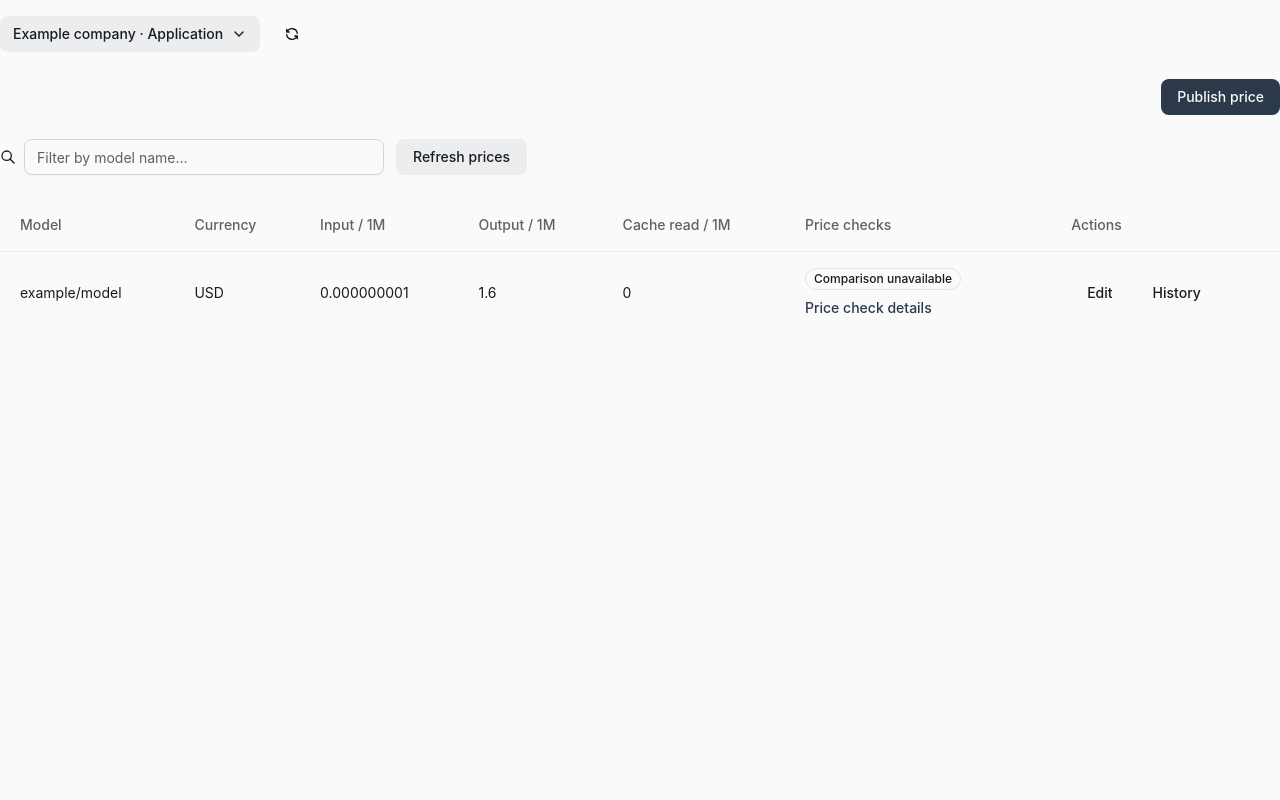
Scenario: platform customer price workflow › retains revision history when an older page fails and retries that boundary
Step 1. Click the button with aria-label "History for example/model" → point(1177, 293), box top-left (1137, 275), bottom-right (1217, 311)
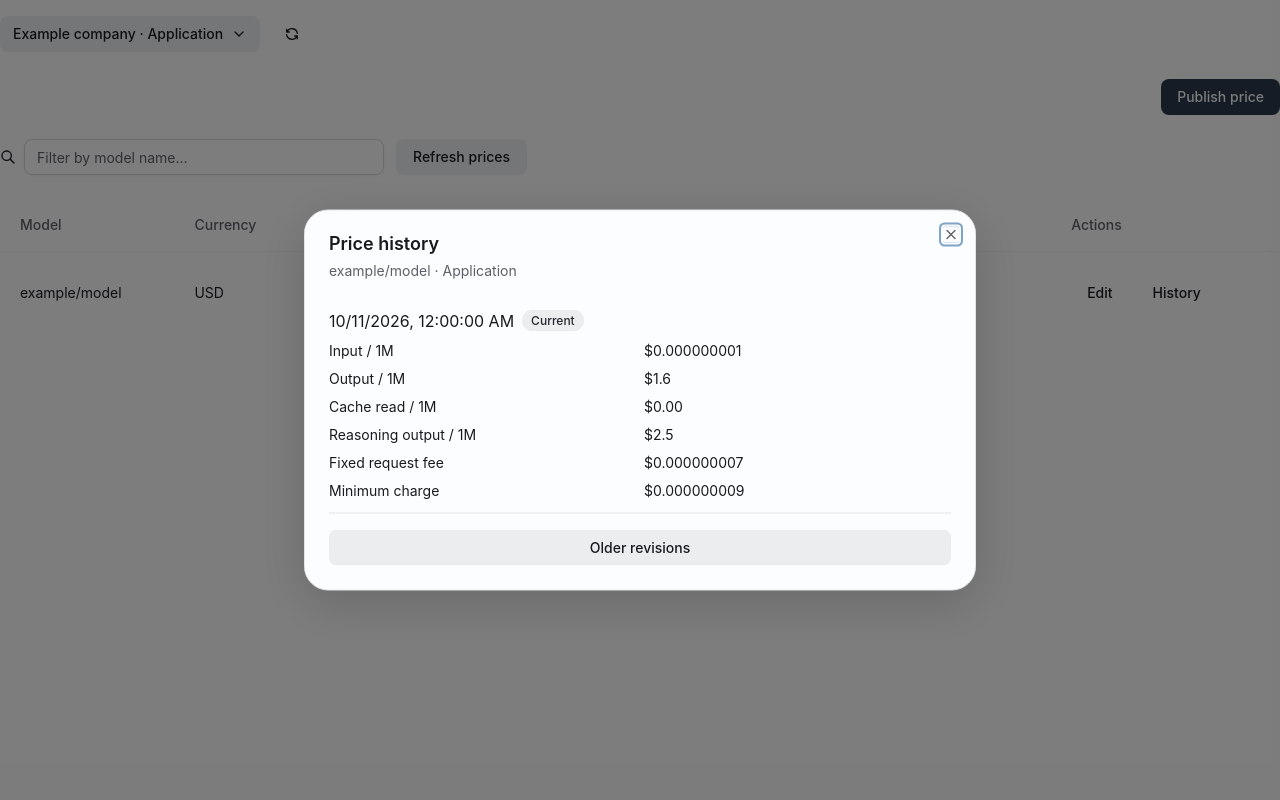
Step 2. Click the button "Older revisions" → point(640, 548), box top-left (329, 530), bottom-right (951, 566)
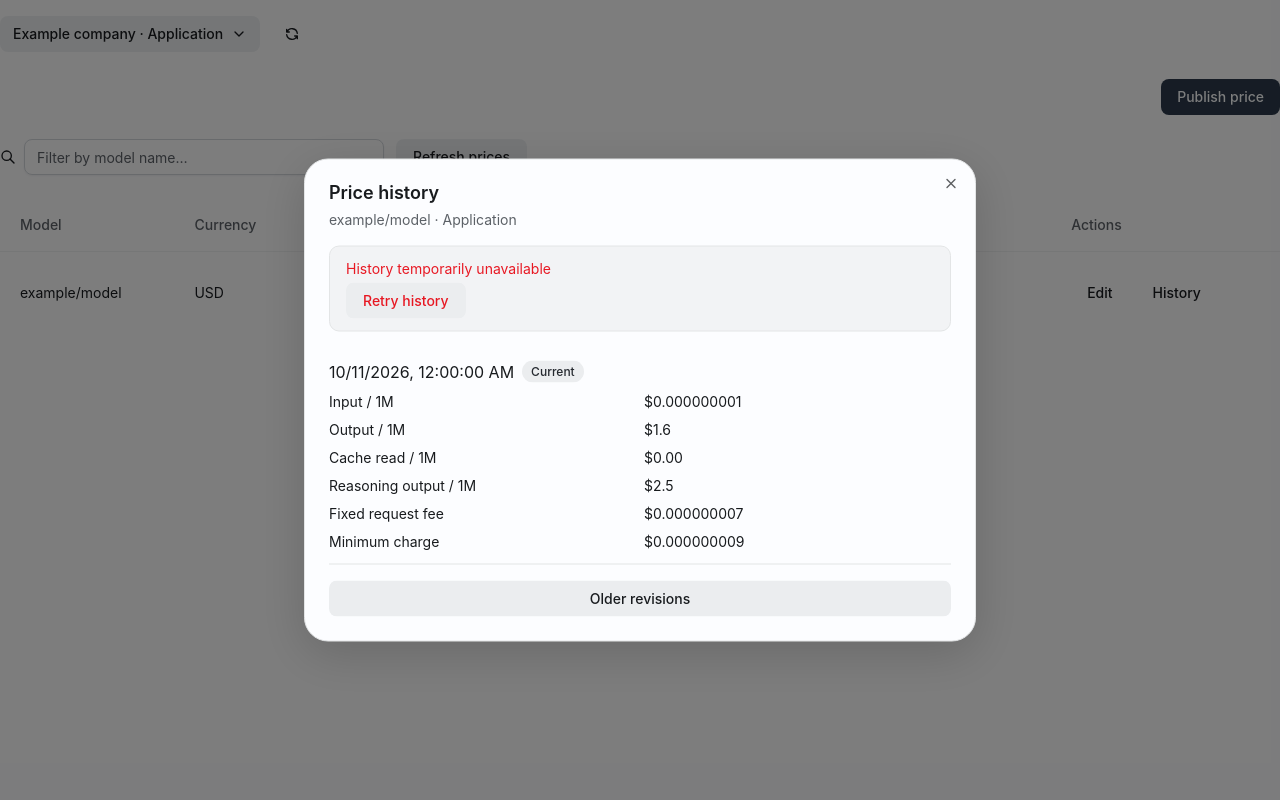
Step 3. Click the button "Retry history" → point(406, 300), box top-left (346, 282), bottom-right (466, 318)
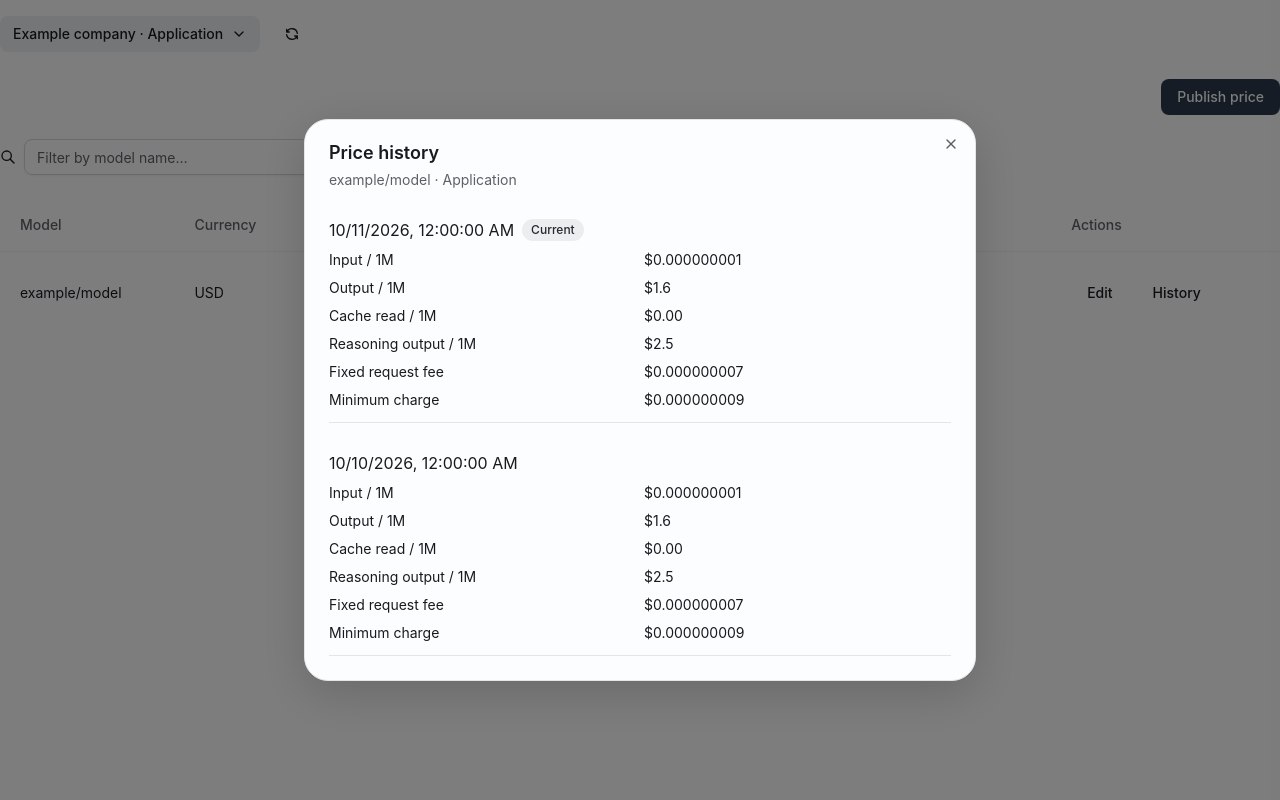
Check: the text "Current" is shown, box top-left (522, 219), bottom-right (584, 241)
Check: the button "Older revisions" is gone
